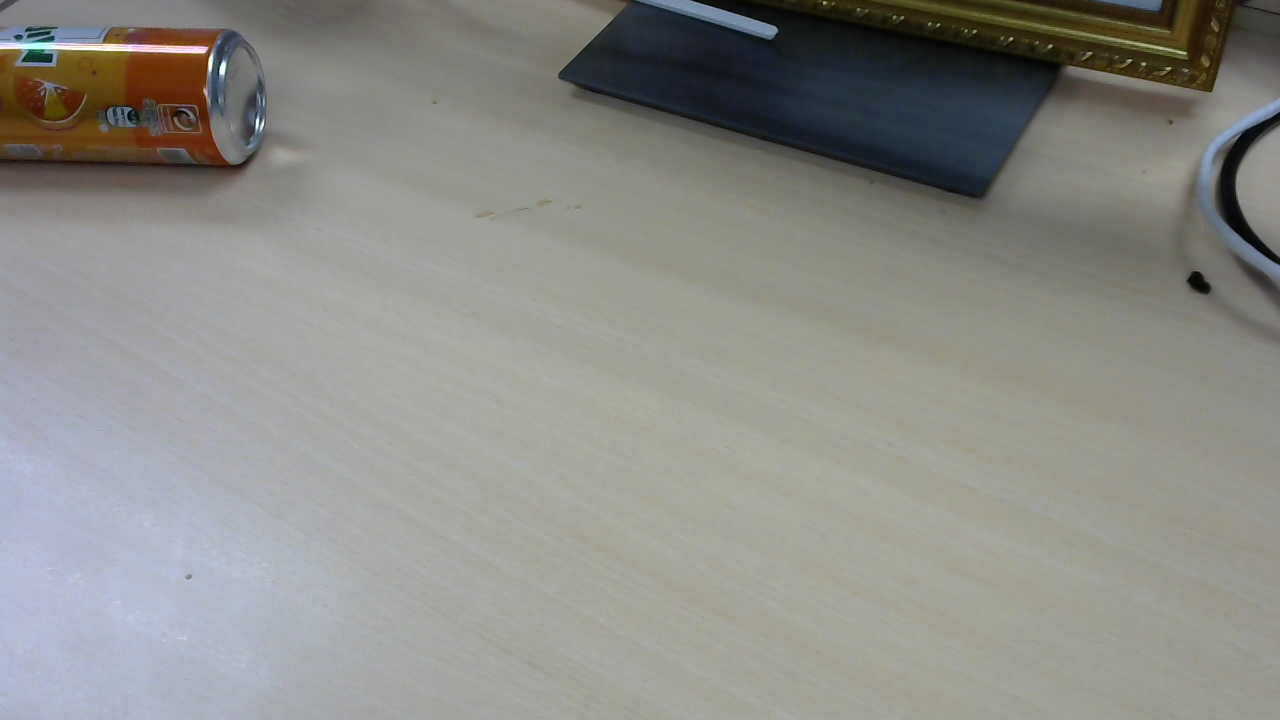Mirinda: (7, 26, 272, 179)
